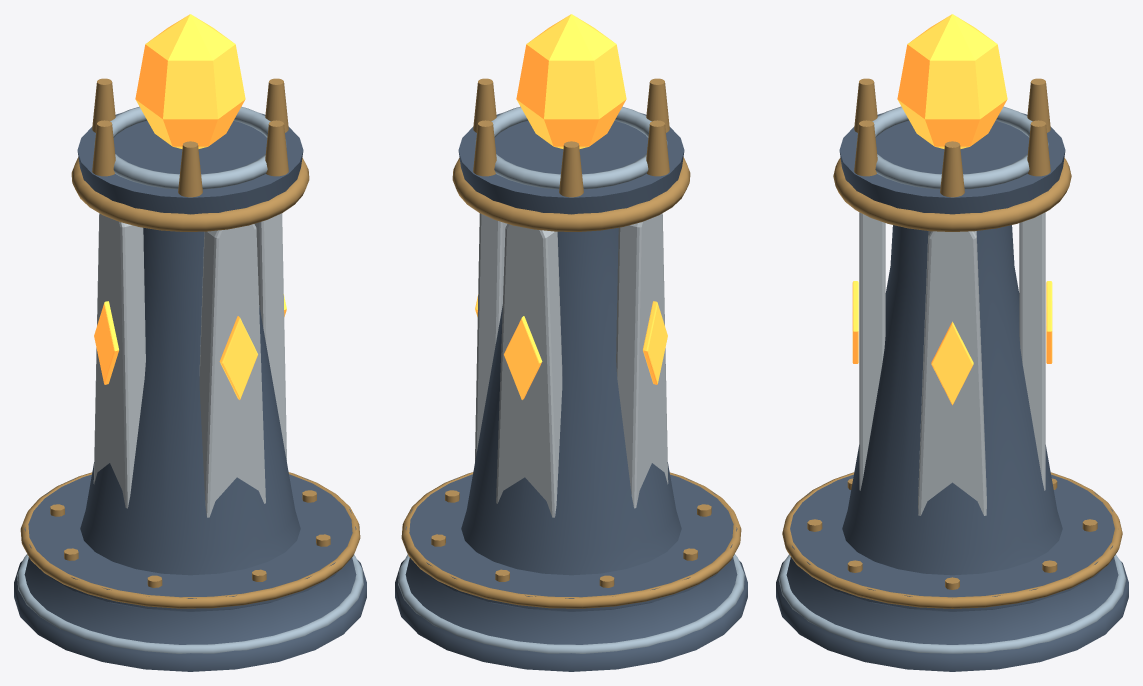
The model's file is moonsteel-convergence-solar-sentinel-5d9c7a42__18165.glb.
The picture shows the model from 3 angles, left to right: view 1: azimuth 30°, elevation 25°; view 2: azimuth 150°, elevation 25°; view 3: azimuth 270°, elevation 25°; orthographic projection.
Visible parts, largest first — view 1: solar-sentinel; view 2: solar-sentinel; view 3: solar-sentinel.
Part boxes in pixels (<box>): solar-sentinel: <box>14,14,366,671</box>; solar-sentinel: <box>395,14,747,671</box>; solar-sentinel: <box>776,14,1128,671</box>.
Bounding box in the file's own units: 2.56 × 4.67 × 2.56.
